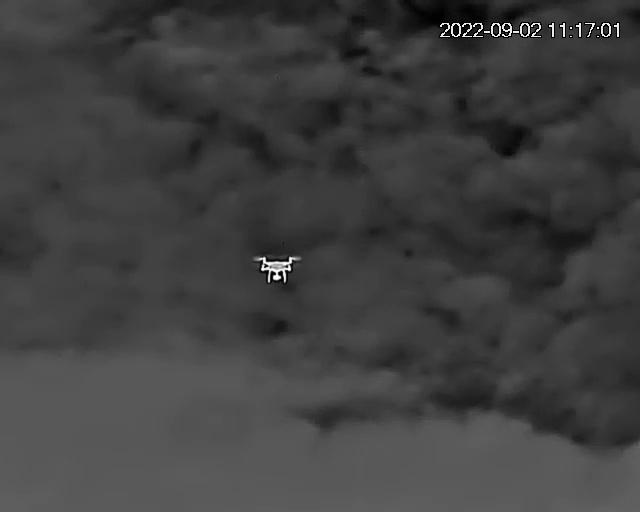DJI-Phantom: (255, 257, 305, 286)
